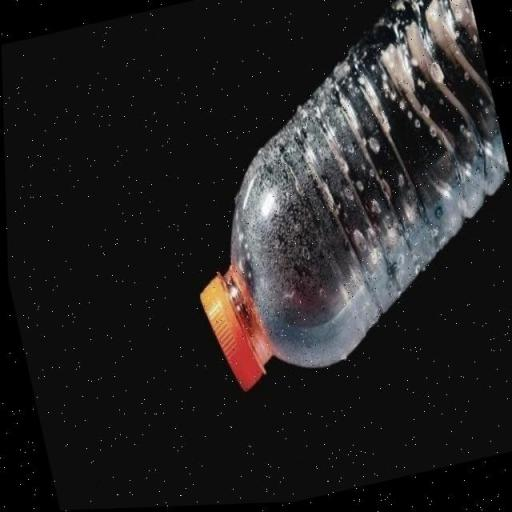plastic: (134, 0, 512, 410)
